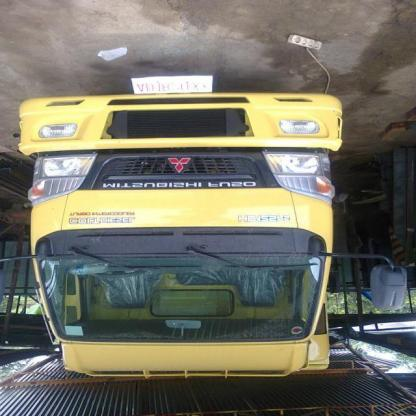truck: (22, 86, 409, 377)
